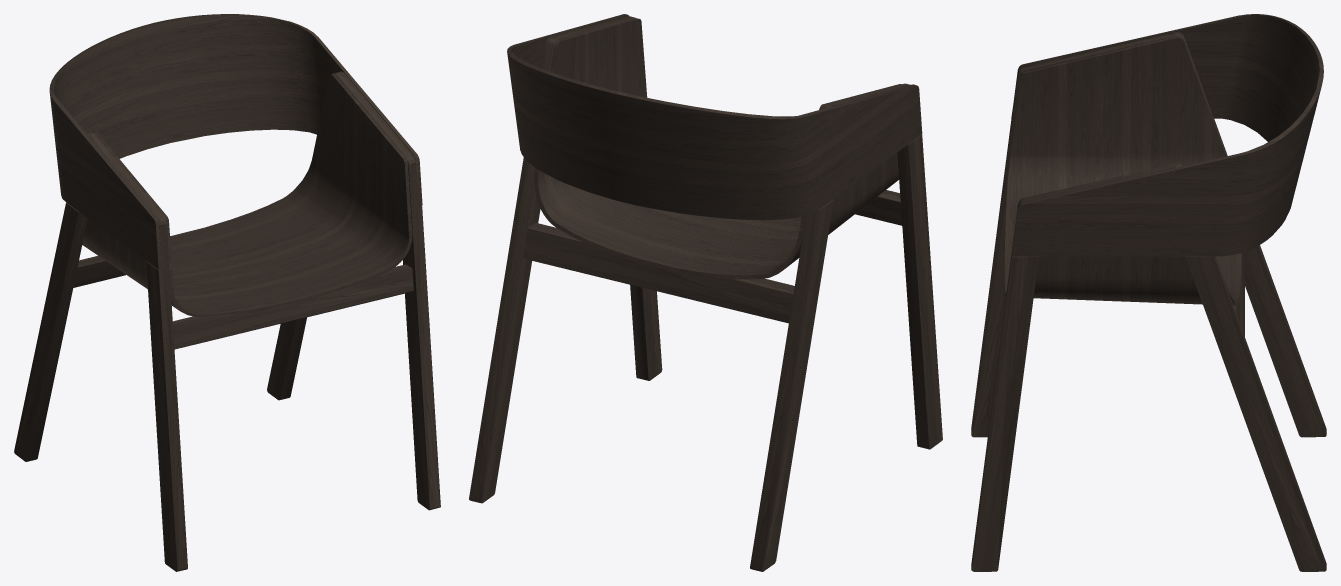
Rendered from Chair 3.FBX.
The picture shows the model from 3 angles, left to right: view 1: azimuth 30°, elevation 25°; view 2: azimuth 150°, elevation 25°; view 3: azimuth 270°, elevation 25°; orthographic projection. The views are drawn at different scales.
Parts seen in each view (by area): view 1: chair 3; view 2: chair 3; view 3: chair 3.
Boxes of the visible parts, left/top/right/bottom form: chair 3: left=14, top=14, right=440, bottom=571; chair 3: left=469, top=14, right=942, bottom=571; chair 3: left=971, top=14, right=1326, bottom=571.
Bounding box in the file's own units: 58.2 × 83.98 × 62.23.
Materials: 1 (1 with a texture image).
